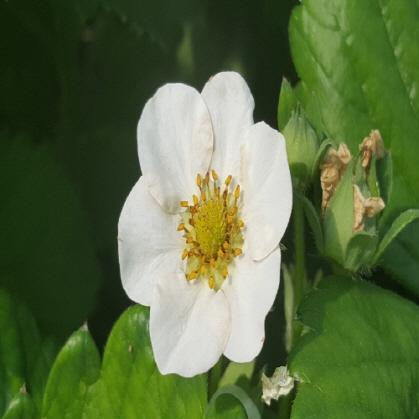Blossom Blight: (170, 167, 246, 291)
